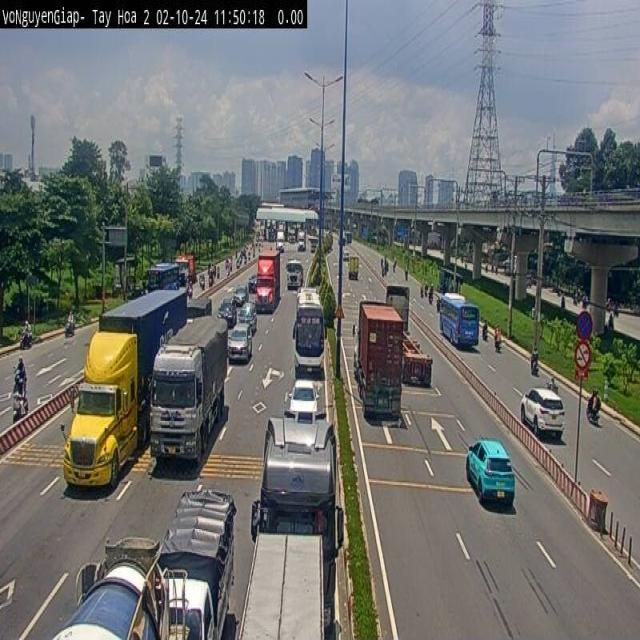bus: (294, 284, 326, 378), (437, 291, 483, 356)
car: (466, 438, 515, 506), (519, 386, 565, 440)
container-truck: (61, 287, 187, 494), (250, 415, 346, 559), (352, 298, 403, 419), (386, 283, 434, 386)
truck: (148, 313, 231, 465), (56, 535, 170, 640), (166, 484, 242, 640), (242, 534, 330, 640)
